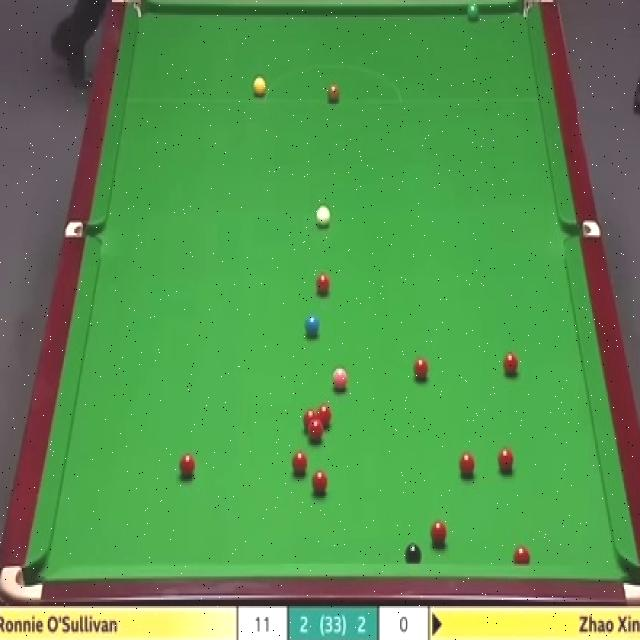black-ball: (405, 542, 422, 564)
blue-ball: (304, 313, 322, 336)
brown-ball: (327, 80, 339, 102)
green-ball: (465, 0, 480, 19)
pink-ball: (332, 367, 349, 394)
red-ball: (175, 454, 198, 479), (458, 452, 478, 479), (288, 452, 309, 477), (412, 354, 430, 383), (312, 466, 329, 496), (430, 521, 448, 549), (312, 272, 332, 297), (498, 447, 516, 473), (302, 409, 318, 435), (502, 352, 518, 378), (318, 404, 332, 430), (513, 544, 531, 563), (309, 423, 324, 443)
white-ball: (314, 203, 331, 230)
yellow-ball: (252, 79, 265, 96)
